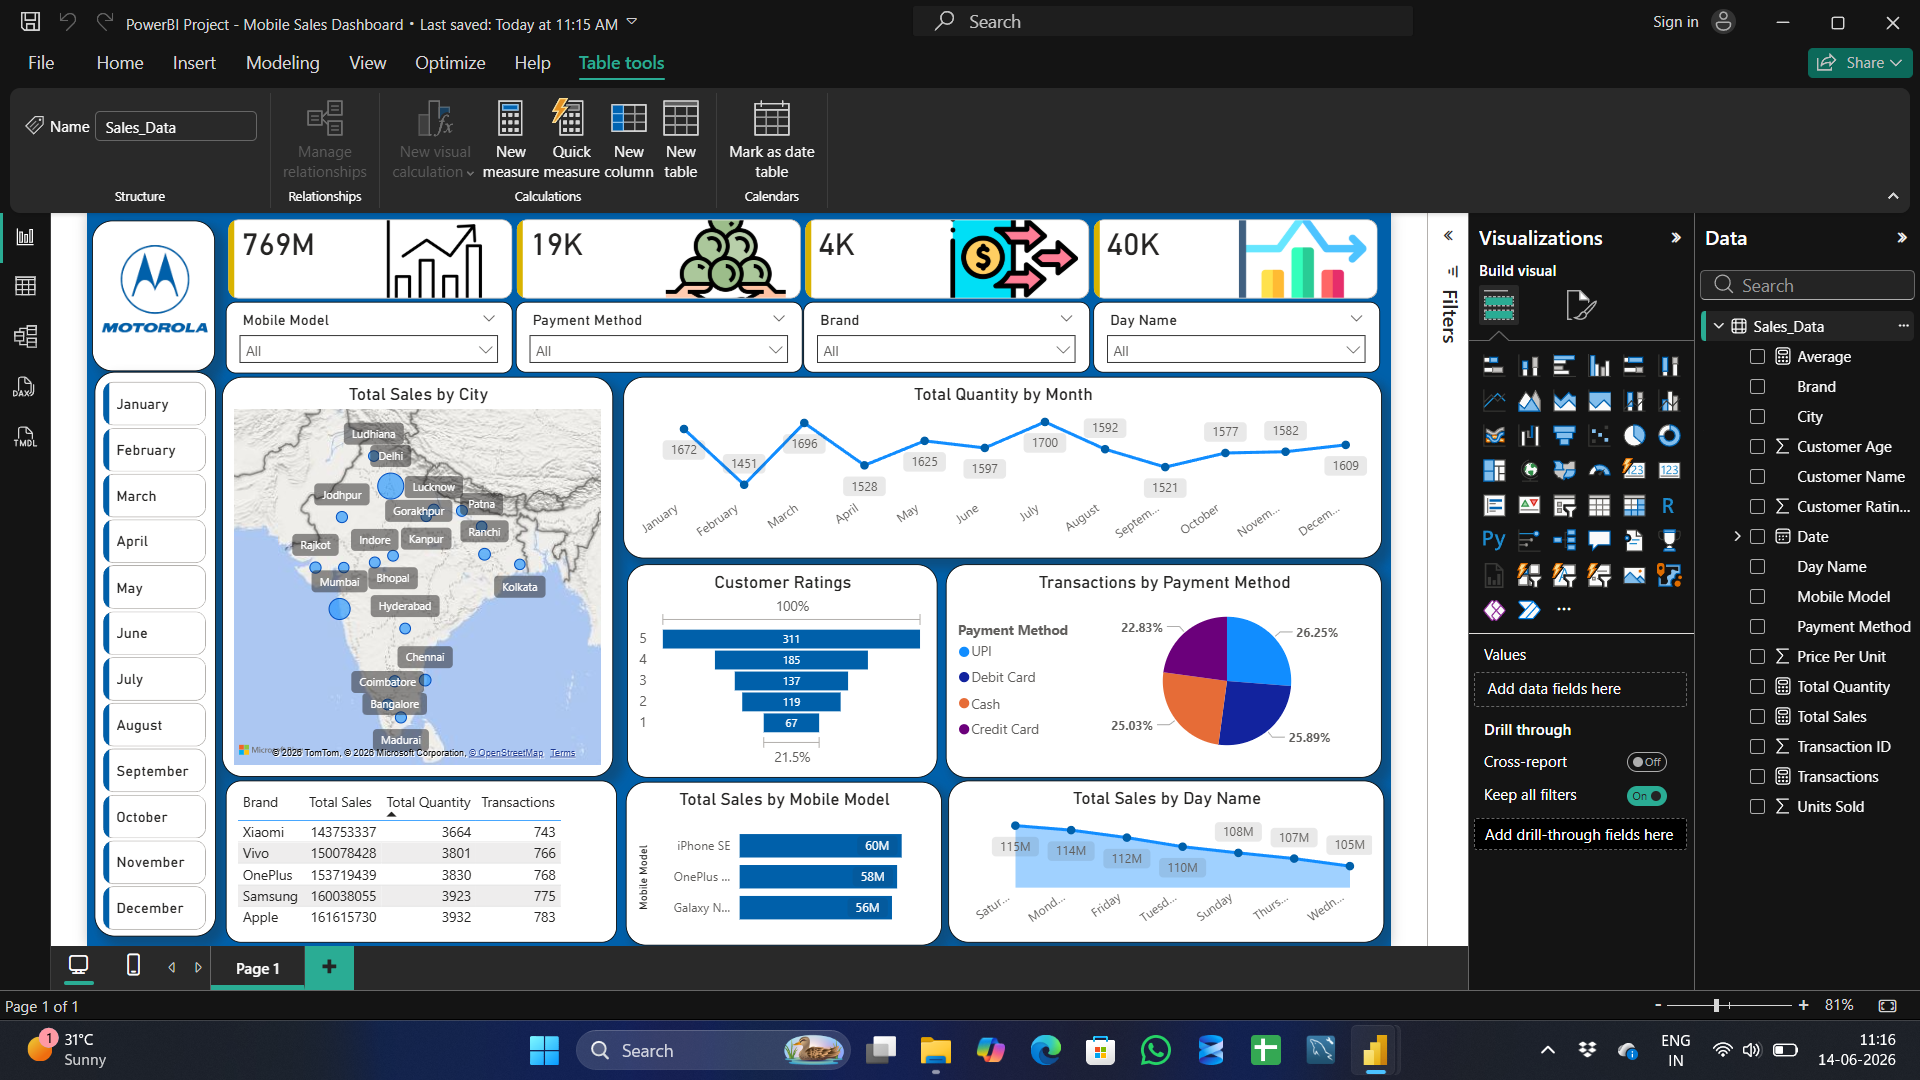

The page's visual inventory and layout, read from the dashboard file:
{"tool":"powerbi","page":{"name":"Page 1","canvas":[1280,720],"ordinal":0},"visuals":[{"type":"shape","box":[5.5,6.9,120.8,148.2],"z":0},{"type":"image","box":[9.6,16.5,113.9,116.6],"z":1000},{"type":"shape","box":[6.9,156.4,119.4,554.4],"z":2000},{"type":"advancedSlicerVisual","fields":{"Values":["Sales_Data.Date.Variation.Date Hierarchy.Month"]},"box":[11,160.5,111.1,548.9],"z":3000},{"type":"cardVisual","fields":{"Data":["Sales_Data.Total Sales","Sales_Data.Total Quantity","Sales_Data.Transactions","Sales_Data.Average"]},"box":[134,5.6,1140.1,83.7],"z":4000},{"type":"map","fields":{"Category":["Sales_Data.City"],"Size":["Sales_Data.Total Sales"]},"box":[132.9,160.8,384.1,393.1],"z":5000},{"type":"lineChart","fields":{"Y":["Sales_Data.Total Quantity"],"Category":["Sales_Data.Date.Variation.Date Hierarchy.Month","Sales_Data.Date.Variation.Date Hierarchy.Day"]},"box":[525.9,160.8,744.8,178.7],"z":6000},{"type":"clusteredBarChart","fields":{"Category":["Sales_Data.Mobile Model"],"Y":["Sales_Data.Total Sales"]},"box":[528.3,558.5,310.1,160.5],"z":7000},{"type":"pieChart","fields":{"Category":["Sales_Data.Payment Method"],"Y":["Sales_Data.Transactions"]},"box":[842.5,344.4,428.1,209.9],"z":8000},{"type":"funnel","title":"Customer Ratings","fields":{"Category":["Sales_Data.Customer Ratings"],"Y":["CountNonNull(Sales_Data.Customer Ratings)"]},"box":[529.7,344.4,304.6,209.9],"z":9000},{"type":"areaChart","fields":{"Category":["Sales_Data.Day Name"],"Y":["Sales_Data.Total Sales"]},"box":[845.3,557.1,428.1,159.2],"z":10000},{"type":"tableEx","fields":{"Values":["Sales_Data.Brand","Sales_Data.Total Sales","Sales_Data.Total Quantity","Sales_Data.Transactions"]},"box":[135.8,557.1,384.2,159.2],"z":11000},{"type":"slicer","fields":{"Values":["Sales_Data.Mobile Model"]},"box":[136.2,87.1,281.4,70.3],"z":12000},{"type":"slicer","fields":{"Values":["Sales_Data.Payment Method"]},"box":[421,87.1,281.4,69.2],"z":13000},{"type":"slicer","fields":{"Values":["Sales_Data.Brand"]},"box":[703.5,87.1,281.4,69.2],"z":14000},{"type":"slicer","fields":{"Values":["Sales_Data.Day Name"]},"box":[988.2,87.1,281.4,69.2],"z":15000}]}

Visuals, with their boxes on the page's 1280x720 design canvas (x1, y1, x2, y2). These are canvas units, not pixel positions in the 1920x1080 screenshot, which may show the page scaled, cropped or inside an application window:
shape: BBox(6, 7, 126, 155)
image: BBox(10, 16, 124, 133)
shape: BBox(7, 156, 126, 711)
advancedSlicerVisual - Sales_Data.Date.Variation.Date Hierarchy.Month: BBox(11, 160, 122, 709)
cardVisual - Sales_Data.Total Sales x Sales_Data.Total Quantity: BBox(134, 6, 1274, 89)
map - Sales_Data.City x Sales_Data.Total Sales: BBox(133, 161, 517, 554)
lineChart - Sales_Data.Total Quantity x Sales_Data.Date.Variation.Date Hierarchy.Month: BBox(526, 161, 1271, 340)
clusteredBarChart - Sales_Data.Mobile Model x Sales_Data.Total Sales: BBox(528, 558, 838, 719)
pieChart - Sales_Data.Payment Method x Sales_Data.Transactions: BBox(842, 344, 1271, 554)
"Customer Ratings" funnel: BBox(530, 344, 834, 554)
areaChart - Sales_Data.Day Name x Sales_Data.Total Sales: BBox(845, 557, 1273, 716)
tableEx - Sales_Data.Brand x Sales_Data.Total Sales: BBox(136, 557, 520, 716)
slicer - Sales_Data.Mobile Model: BBox(136, 87, 418, 157)
slicer - Sales_Data.Payment Method: BBox(421, 87, 702, 156)
slicer - Sales_Data.Brand: BBox(704, 87, 985, 156)
slicer - Sales_Data.Day Name: BBox(988, 87, 1270, 156)
